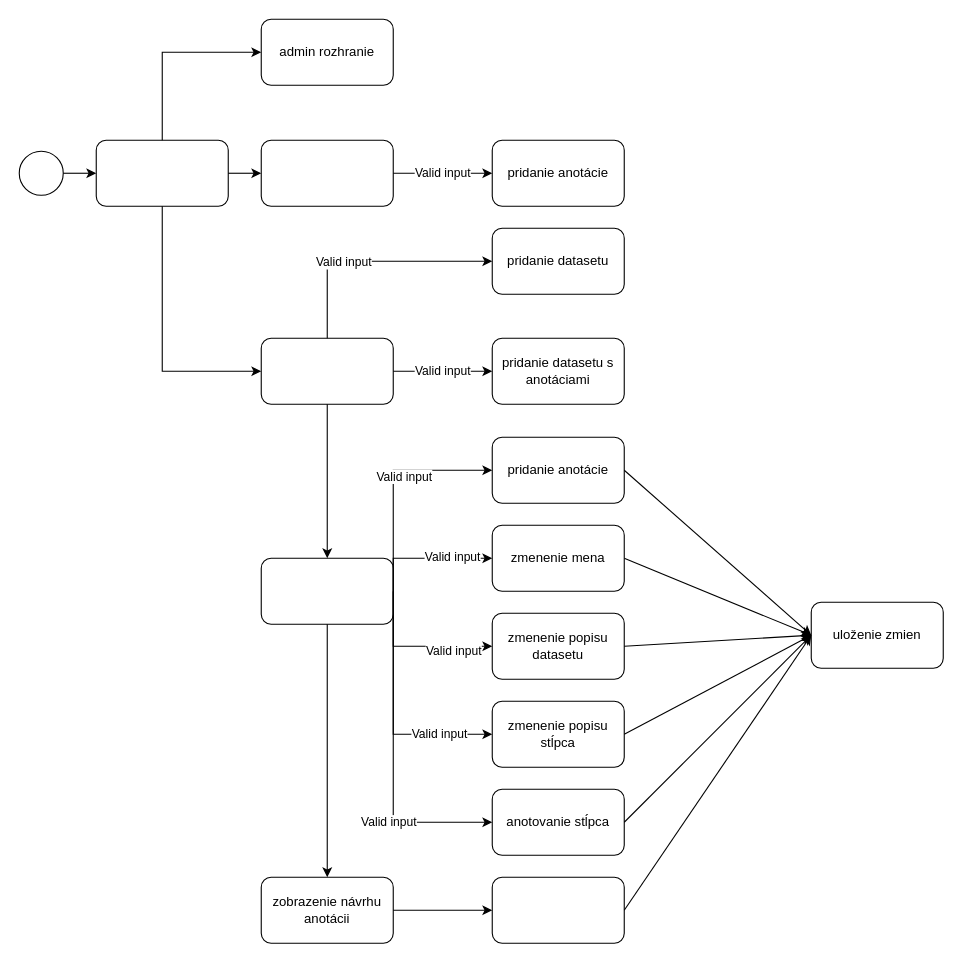
Some shapes in this 963 by 963 pixel diagram are drawn without their labels. Here are the shapes that lost their labels. From the top down, the centre of each, then its label:
At point 161,172: "hlavná obrazovka".
At point 326,172: "vylistovanie anotácii".
At point 326,370: "nájdenie datasetu".
At point 326,590: "kliknutie na existujúci dataset".
At point 557,909: "vybratie navrhovanej anotácie".
